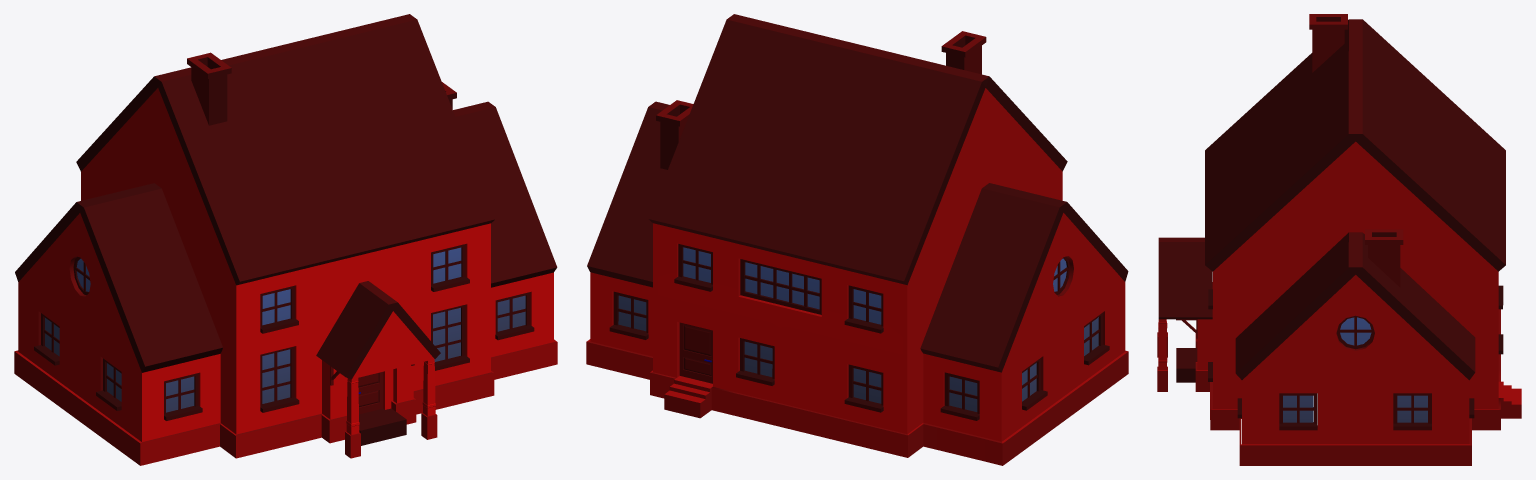
The model's file is buildings-residential-largefamilyhome_v4.fbx.
3 views of the same model, side by side, from view 1: azimuth 30°, elevation 25°; view 2: azimuth 150°, elevation 25°; view 3: azimuth 270°, elevation 25° (orthographic). The views are drawn at different scales.
Visible parts, largest first — view 1: LargeFamilyHome_v4_base, LargeFamilyHome_v4_windowRefl; view 2: LargeFamilyHome_v4_base, LargeFamilyHome_v4_windowRefl; view 3: LargeFamilyHome_v4_base, LargeFamilyHome_v4_windowRefl.
Part boxes in pixels (x1,y1,x2,y2): LargeFamilyHome_v4_base: [14, 14, 557, 465]; LargeFamilyHome_v4_windowRefl: [45, 247, 525, 412]; LargeFamilyHome_v4_base: [586, 14, 1128, 465]; LargeFamilyHome_v4_windowRefl: [618, 247, 1098, 411]; LargeFamilyHome_v4_base: [1157, 14, 1521, 465]; LargeFamilyHome_v4_windowRefl: [1283, 317, 1427, 422].
Size of the model in its own units: 17.94 by 13.81 by 14.61.
